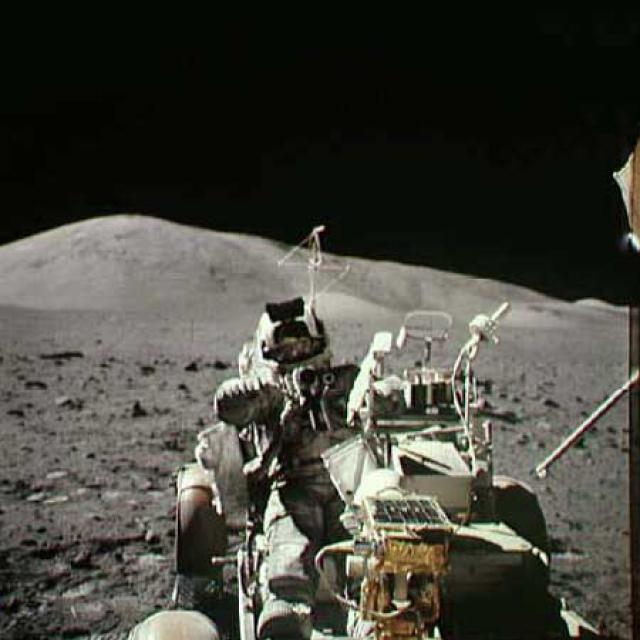artifact: (124, 221, 596, 638), (536, 135, 639, 484)
rock: (120, 396, 144, 421), (54, 391, 83, 411), (537, 394, 561, 412), (183, 355, 200, 375), (208, 358, 232, 372)
